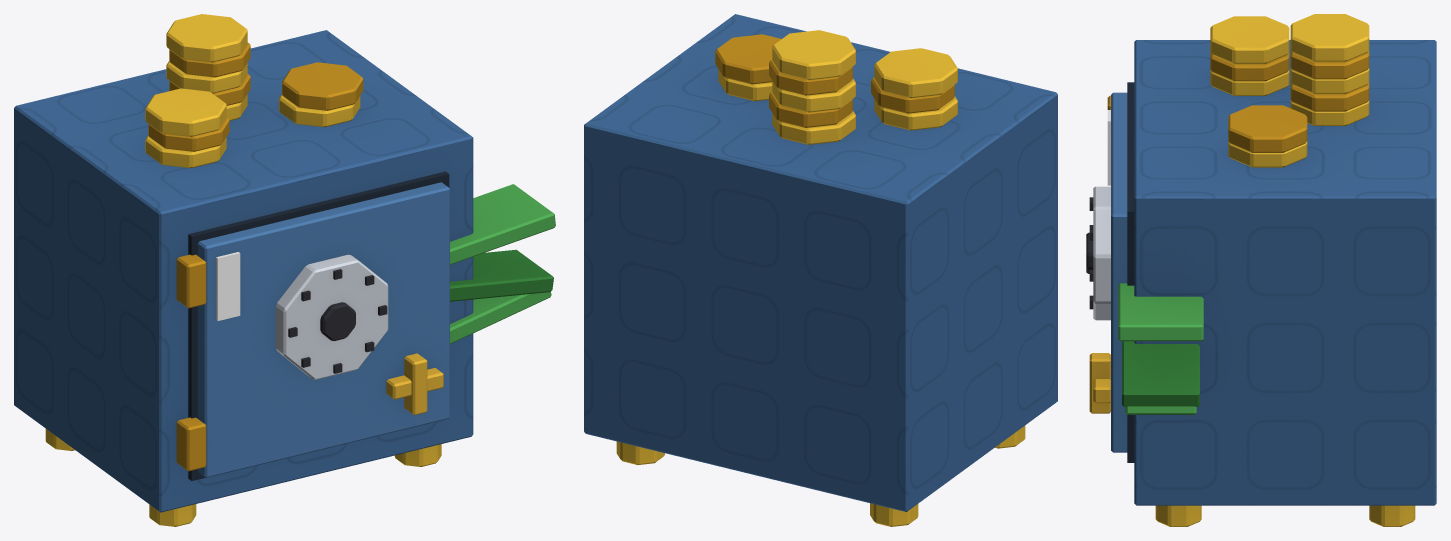
File: PocketSafe.fbx
3 renders of one model, left to right at view 1: azimuth 30°, elevation 25°; view 2: azimuth 150°, elevation 25°; view 3: azimuth 270°, elevation 25°, orthographic. The views are drawn at different scales.
Parts seen in each view (by area): view 1: Art_PocketSafe; view 2: Art_PocketSafe; view 3: Art_PocketSafe.
Part boxes in pixels (bbox=[...]): Art_PocketSafe: bbox=[14, 14, 555, 526]; Art_PocketSafe: bbox=[584, 14, 1057, 526]; Art_PocketSafe: bbox=[1086, 14, 1436, 526].
Size of the model in its own units: 2.6 by 2.6 by 1.97.
